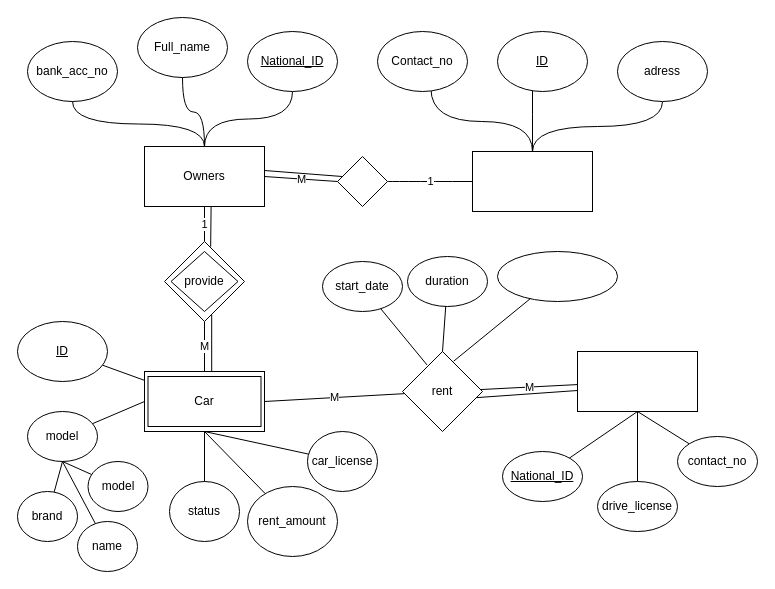
This 775x589 diagram has some shape labels left out. Here are the shapes that lost their labels. From the top down, the centre of each, then its label:
At [362,181]: "apply".
At [532,181]: "Officess".
At [557,276]: "payment_method".
At [637,381]: "Tenant".
